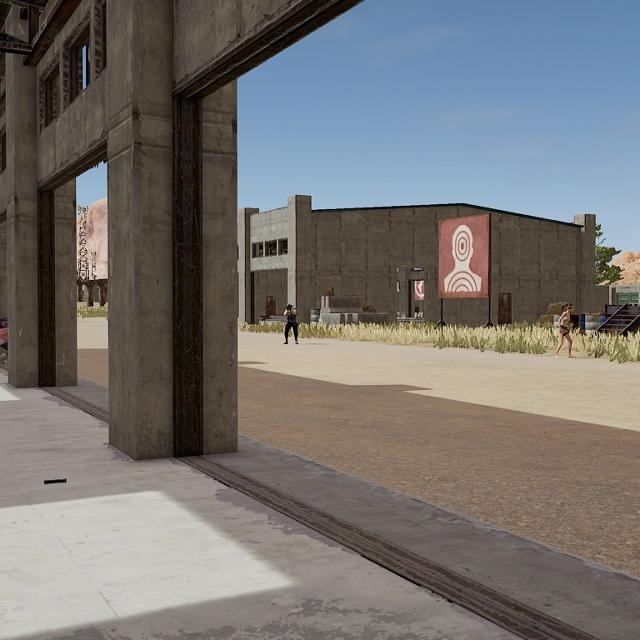head: (565, 304, 576, 314), (286, 303, 294, 312)
people: (553, 304, 577, 359), (282, 303, 301, 346)
